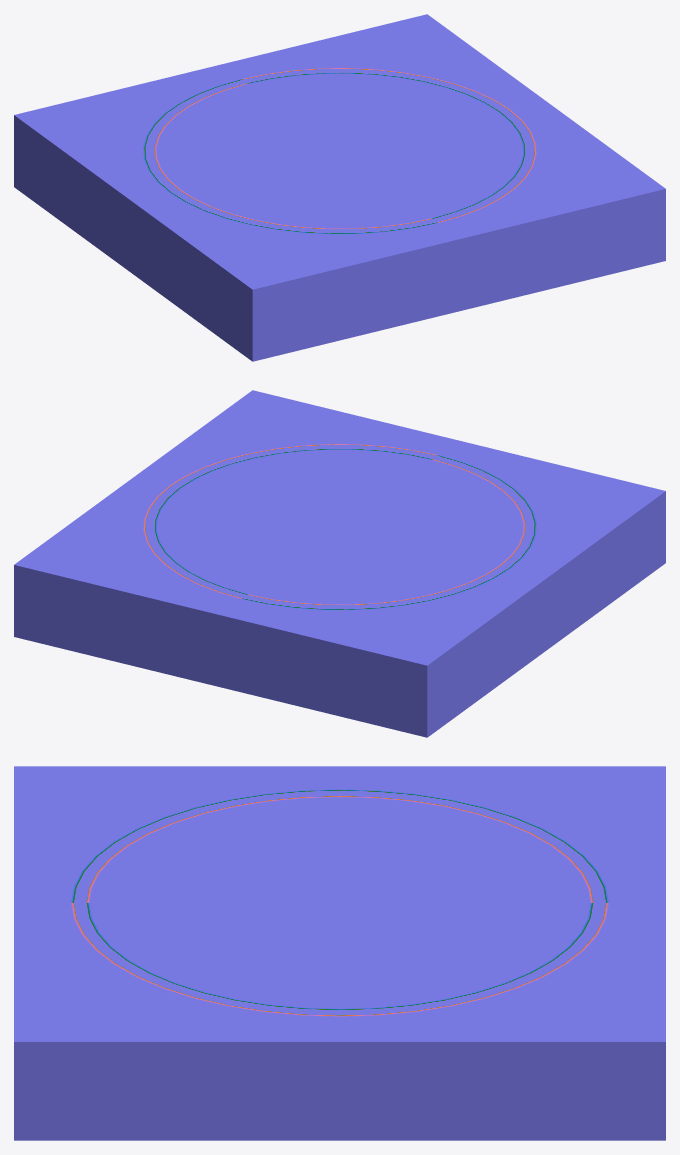
Rendered from Floor_Normal_02.FBX.
3 views of the same model, one above another, from view 1: azimuth 30°, elevation 25°; view 2: azimuth 150°, elevation 25°; view 3: azimuth 270°, elevation 25° (orthographic). The views are drawn at different scales.
Visible parts, largest first — view 1: Floor_Normal_02, Decal_Circle; view 2: Floor_Normal_02, Decal_Circle; view 3: Floor_Normal_02, Decal_Circle.
Boxes of the visible parts, bbox=[...] form: Floor_Normal_02: bbox=[14, 14, 665, 361]; Decal_Circle: bbox=[143, 68, 536, 234]; Floor_Normal_02: bbox=[14, 390, 665, 737]; Decal_Circle: bbox=[143, 444, 536, 610]; Floor_Normal_02: bbox=[14, 766, 665, 1140]; Decal_Circle: bbox=[71, 789, 608, 1016].
Size of the model in its own units: 6 by 1.01 by 6.
